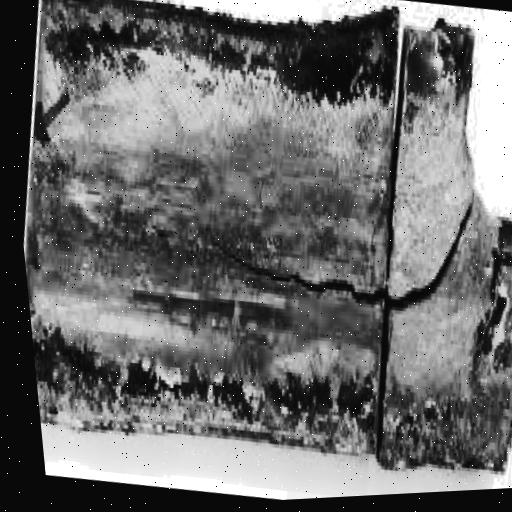crack: (319, 0, 465, 462), (191, 157, 486, 352)
